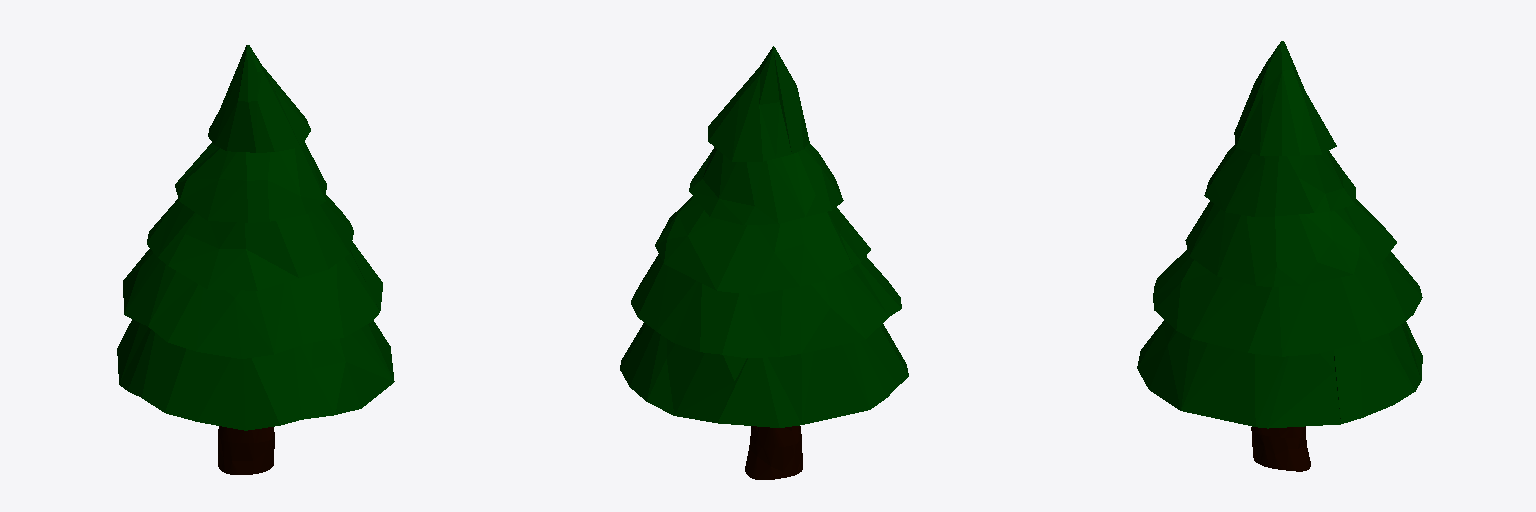
The model's file is firTree.obj.
The picture shows the model from 3 angles: view 1: azimuth 30°, elevation 25°; view 2: azimuth 150°, elevation 25°; view 3: azimuth 270°, elevation 25°; orthographic projection.
Parts seen in each view (by area): view 1: Cylinder001; view 2: Cylinder001; view 3: Cylinder001.
Boxes of the visible parts, box(x1,y1,x2,y2) form: Cylinder001: box(117, 45, 394, 474); Cylinder001: box(620, 46, 908, 479); Cylinder001: box(1137, 41, 1422, 471).
Bounding box in the file's own units: 140 × 229 × 140.